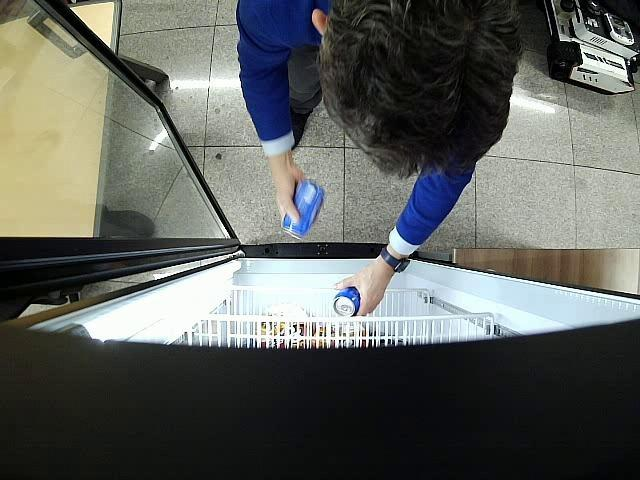13_pocariSweat: (282, 178, 325, 240), (334, 287, 360, 316)
